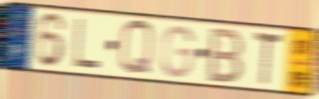6: (35, 10, 67, 70)
B: (205, 26, 246, 85)
G: (159, 23, 196, 80)
L: (72, 16, 102, 70)
Q: (117, 17, 156, 78)
T: (252, 29, 284, 89)
